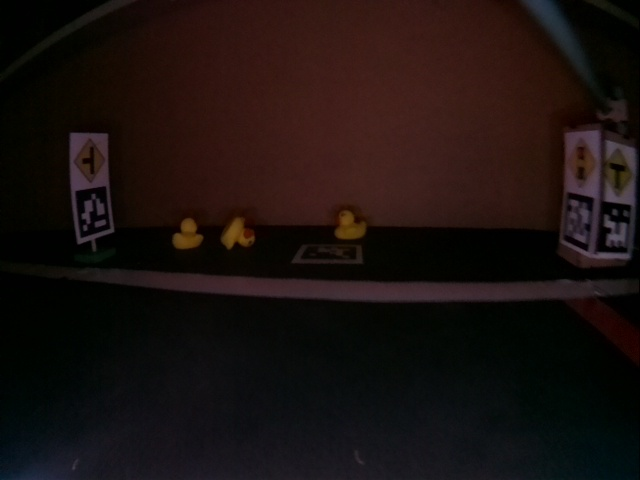Duckie: (219, 218, 251, 249), (335, 211, 367, 240), (172, 220, 202, 248)
Intersection sign: (72, 135, 107, 183), (604, 146, 634, 198)
QR code: (73, 186, 112, 239), (562, 191, 596, 251), (596, 201, 630, 253), (293, 243, 361, 264)
Signal sign: (566, 137, 597, 187)
